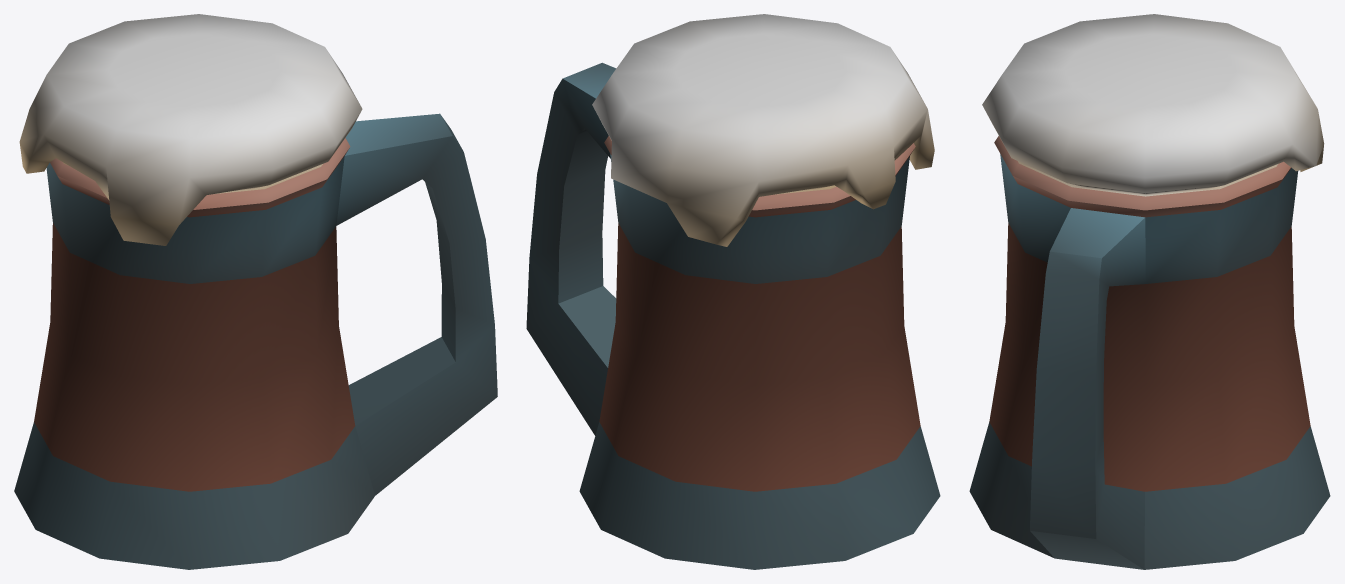
File: MODEL_BeerMugs.fbx
3 views of the same model, side by side, from view 1: azimuth 30°, elevation 25°; view 2: azimuth 150°, elevation 25°; view 3: azimuth 270°, elevation 25° (orthographic).
Visible parts, largest first — view 1: MESH_BeerMug; view 2: MESH_BeerMug; view 3: MESH_BeerMug.
Boxes of the visible parts, bbox=[...] form: MESH_BeerMug: bbox=[14, 14, 497, 569]; MESH_BeerMug: bbox=[526, 14, 940, 569]; MESH_BeerMug: bbox=[969, 14, 1330, 569].
Bounding box in the file's own units: 52.57 × 51.32 × 39.44.
